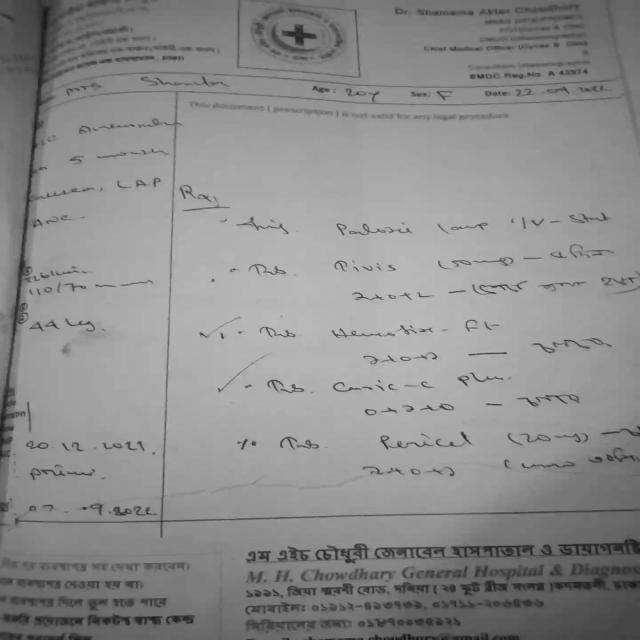Cavic-C Plus: (329, 376, 506, 395)
Hemofix FZ: (328, 323, 506, 343)
Paloxi: (328, 216, 419, 245)
Paricel: (377, 429, 475, 454)
Tivis: (328, 256, 401, 278)
